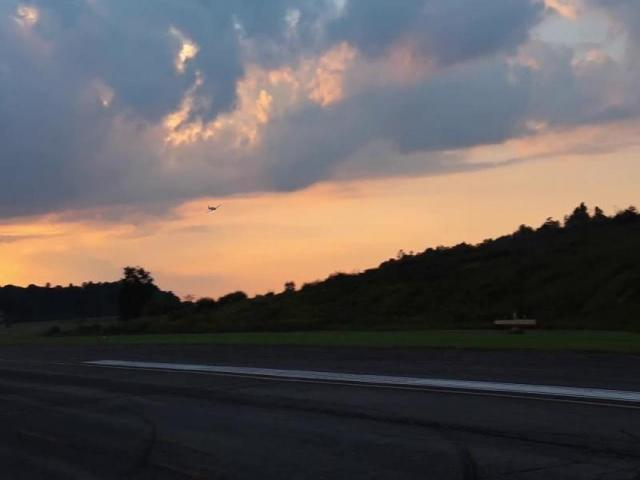hedef: (204, 200, 221, 216)
